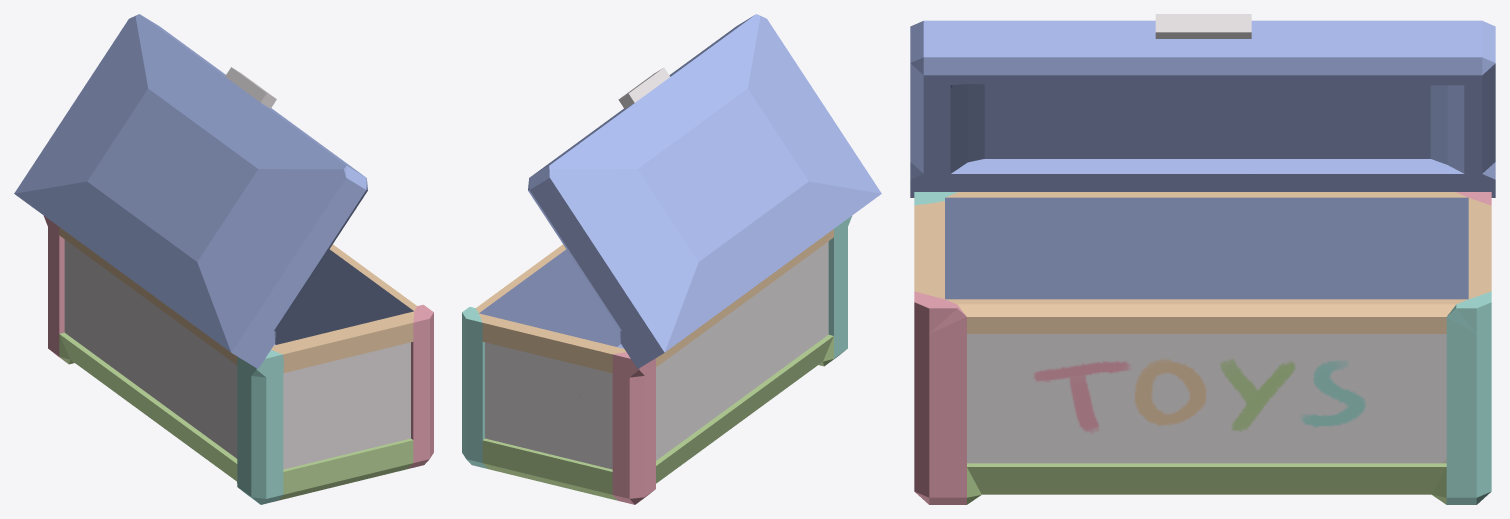
File: ToyBox.fbx
The picture shows the model from 3 angles, left to right: view 1: azimuth 30°, elevation 25°; view 2: azimuth 150°, elevation 25°; view 3: azimuth 270°, elevation 25°; orthographic projection. The views are drawn at different scales.
Parts seen in each view (by area): view 1: Top, MainBody; view 2: Top, MainBody; view 3: MainBody, Top.
Boxes of the visible parts, <box> form: Top: <box>14,14,367,368</box>; MainBody: <box>44,216,433,504</box>; Top: <box>528,14,881,368</box>; MainBody: <box>462,216,851,504</box>; MainBody: <box>914,192,1491,504</box>; Top: <box>910,14,1495,197</box>.
Size of the model in its own units: 188 by 282 by 337.
2 materials, 2 textured.
